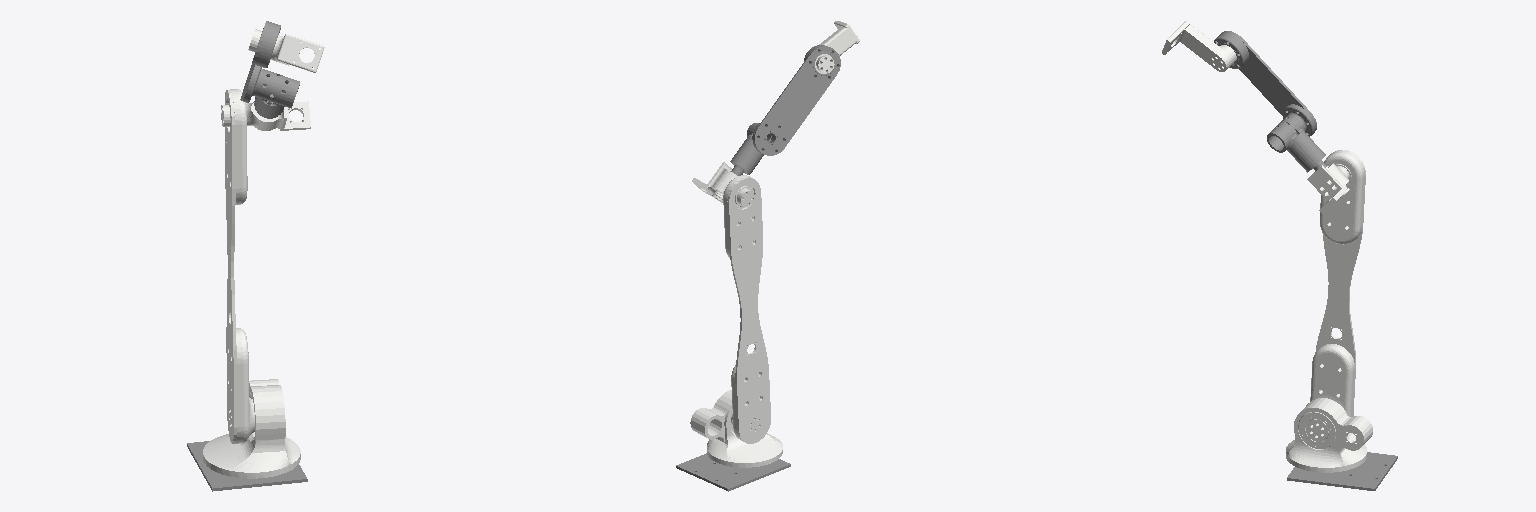
robot.urdf — manipulator:
<?xml version="1.0"?>
<!-- This URDF was automatically created by SolidWorks to URDF Exporter! Originally created by [author] ([email redacted]) 
     Commit Version: 1.6.0-4-g7f85cfe  Build Version: 1.6.7995.38578
     For more information, please see http://wiki.ros.org/sw_urdf_exporter -->
<robot
  name="manipulator">
  <!-- <link name="robot_footprint"></link>
  <joint name="robot_footprint_joint" type="fixed">
		<origin xyz="0 0 0" rpy="0 0 0" />
		<parent link="robot_footprint"/>
		<child link="base_link" />
	</joint> -->
  <link
    name="base_link">
    <inertial>
      <origin
        xyz="0.00908164115042133 0.00249999999999991 -0.0305049626836885"
        rpy="0 0 0" />
      <mass
        value="0.11980315324475" />
      <inertia
        ixx="0.000288625897602559"
        ixy="-1.09695631019673E-20"
        ixz="1.5465282435664E-05"
        iyy="0.000529409365034584"
        iyz="-5.8120920424534E-20"
        izz="0.000241282647237211" />
    </inertial>
    <visual>
      <origin
        xyz="0 0 0"
        rpy="0 0 0" />
      <geometry>
        <mesh
          filename="package://kai/meshes/base_link.dae" />
        <!-- <mesh filename="file://$(robot_description)/meshes/base_link.STL"/> -->
      </geometry>
      <material
        name="">
        <color
          rgba="0.627450980392157 0.627450980392157 0.627450980392157 1" />
      </material>
    </visual>
    <collision>
      <origin
        xyz="0 0 0"
        rpy="0 0 0" />
      <geometry>
        <mesh
          filename="package://kai/meshes/base_link.dae" />
      </geometry>
    </collision>
  </link>
  <link
    name="BaseLink">
    <inertial>
      <origin
        xyz="0.0130098149098752 0.00637352183697149 0.0351023055155284"
        rpy="0 0 0" />
      <mass
        value="0.635450901016514" />
      <inertia
        ixx="0.00146658281605414"
        ixy="-8.00533562972478E-05"
        ixz="-0.000156151329007892"
        iyy="0.00107522273325424"
        iyz="-0.000157052488147922"
        izz="0.00140462825604696" />
    </inertial>
    <visual>
      <origin
        xyz="0 0 0"
        rpy="0 0 0" />
      <geometry>
        <mesh
          filename="package://kai/meshes/BaseLink.STL" />
      </geometry>
      <material
        name="">
        <color
          rgba="0.964705882352941 0.964705882352941 0.952941176470588 1" />
      </material>
    </visual>
    <collision>
      <origin
        xyz="0 0 0"
        rpy="0 0 0" />
      <geometry>
        <mesh
          filename="package://kai/meshes/BaseLink.STL" />
      </geometry>
    </collision>
  </link>
  <joint
    name="Base"
    type="revolute">
    <origin
      xyz="0 0 0.024"
      rpy="0 0 -0.38581" />
    <parent
      link="base_link" />
    <child
      link="BaseLink" />
    <axis
      xyz="0 0 -1" />
    <limit
      lower="-3.14"
      upper="+3.14"
      effort="0"
      velocity="0" />
  </joint>
  <link
    name="Link1">
    <inertial>
      <origin
        xyz="-0.0171899024918185 3.96098050019222E-09 0.211814397998685"
        rpy="0 0 0" />
      <mass
        value="0.75439962581054" />
      <inertia
        ixx="0.00666589929249409"
        ixy="-5.52900390402011E-13"
        ixz="0.000118152905304154"
        iyy="0.00645035702489968"
        iyz="-1.45236654683188E-10"
        izz="0.000447411993441979" />
    </inertial>
    <visual>
      <origin
        xyz="0 0 0"
        rpy="0 0 0" />
      <geometry>
        <mesh
          filename="package://kai/meshes/Link1.STL" />
      </geometry>
      <material
        name="">
        <color
          rgba="0.964705882352941 0.964705882352941 0.952941176470588 1" />
      </material>
    </visual>
    <collision>
      <origin
        xyz="0 0 0"
        rpy="0 0 0" />
      <geometry>
        <mesh
          filename="package://kai/meshes/Link1.STL" />
      </geometry>
    </collision>
  </link>
  <joint
    name="Link_1_joint"
    type="revolute">
    <origin
      xyz="0 0 0.07"
      rpy="-0.049937 0 0" />
    <parent
      link="BaseLink" />
    <child
      link="Link1" />
    <axis
      xyz="-1 0 0" />
    <limit
      lower="-1.65"
      upper="+0.40"
      effort="0"
      velocity="0" />
  </joint>
  <link
    name="LInk2">
    <inertial>
      <origin
        xyz="-1.15541102019279E-07 0.0622210280253098 0.000780641167662521"
        rpy="0 0 0" />
      <mass
        value="0.132683268511766" />
      <inertia
        ixx="0.000149499984756005"
        ixy="9.02670425663714E-10"
        ixz="1.59136095041767E-10"
        iyy="4.34056705353541E-05"
        iyz="1.00196036779716E-05"
        izz="0.000141229747624599" />
    </inertial>
    <visual>
      <origin
        xyz="0 0 0"
        rpy="0 0 0" />
      <geometry>
        <mesh
          filename="package://kai/meshes/LInk2.STL" />
      </geometry>
      <material
        name="">
        <color
          rgba="0.964705882352941 0.964705882352941 0.952941176470588 1" />
      </material>
    </visual>
    <collision>
      <origin
        xyz="0 0 0"
        rpy="0 0 0" />
      <geometry>
        <mesh
          filename="package://kai/meshes/LInk2.STL" />
      </geometry>
    </collision>
  </link>
  <joint
    name="Link_2_joint"
    type="revolute">
    <origin
      xyz="-0.041876 0 0.5"
      rpy="0 0.86992 -1.5708" />
    <parent
      link="Link1" />
    <child
      link="LInk2" />
    <axis
      xyz="0 -1 0" /> 
      <!-- changes in x -->
    <limit
      lower="-2.00"
      upper="+3.78"
      effort="0"
      velocity="0" />
  </joint>
  <link
    name="LInk2_roll">
    <inertial>
      <origin
        xyz="0.160931421999159 0.00967850395069597 0.0167637528504534"
        rpy="0 0 0" />
      <mass
        value="0.265567495853836" />
      <inertia
        ixx="0.000132124255543682"
        ixy="-1.09508918218255E-05"
        ixz="-1.89684816624954E-05"
        iyy="0.000471604742846838"
        iyz="1.03577523752584E-05"
        izz="0.000483564319253852" />
    </inertial>
    <visual>
      <origin
        xyz="0 0 0"
        rpy="0 0 0" />
      <geometry>
        <mesh
          filename="package://kai/meshes/LInk2_roll.STL" />
      </geometry>
      <material
        name="">
        <color
          rgba="0.627450980392157 0.627450980392157 0.627450980392157 1" />
      </material>
    </visual>
    <collision>
      <origin
        xyz="0 0 0"
        rpy="0 0 0" />
      <geometry>
        <mesh
          filename="package://kai/meshes/LInk2_roll.STL" />
      </geometry>
    </collision>
  </link>
  <joint
    name="Link_2_roll_joint"
    type="revolute">
    <origin
      xyz="0 0.068 0"
      rpy="1.6895 -1.5708 0" />
    <parent
      link="LInk2" />
    <child
      link="LInk2_roll" />
    <axis
      xyz="-1 0 0" />
    <limit
      lower="-3.14"
      upper="+3.14"
      effort="0"
      velocity="0" />
  </joint>
  <link
    name="Link3">
    <inertial>
      <origin
        xyz="-1.11690691251276E-07 -0.00647763349746033 0.0333206221271415"
        rpy="0 0 0" />
      <mass
        value="0.144270851305288" />
      <inertia
        ixx="0.000257274308797651"
        ixy="-2.80207124118818E-11"
        ixz="-1.21019066563576E-10"
        iyy="0.00020954236699102"
        iyz="-7.32674962057258E-05"
        izz="8.42184579446783E-05" />
    </inertial>
    <visual>
      <origin
        xyz="0 0 0"
        rpy="0 0 0" />
      <geometry>
        <mesh
          filename="package://kai/meshes/Link3.STL" />
      </geometry>
      <material
        name="">
        <color
          rgba="0.964705882352941 0.964705882352941 0.952941176470588 1" />
      </material>
    </visual>
    <collision>
      <origin
        xyz="0 0 0"
        rpy="0 0 0" />
      <geometry>
        <mesh
          filename="package://kai/meshes/Link3.STL" />
      </geometry>
    </collision>
  </link>
  <joint
    name="Link_3_joint"
    type="revolute">
    <origin
      xyz="0.30505 0 0"
      rpy="-1.4084 -0.50003 -1.9" />
    <parent
      link="LInk2_roll" />
    <child
      link="Link3" />
    <axis
      xyz="0 -1 0" />
    <limit
      lower="-3.14"
      upper="+3.14"
      effort="0"
      velocity="0" />
  </joint>
</robot>

--- Facts derived from the render (not from the file) ---
The picture shows the robot from 3 angles, left to right: view 1: azimuth 30°, elevation 25°; view 2: azimuth 150°, elevation 25°; view 3: azimuth 270°, elevation 25°; orthographic projection.
Robot: manipulator — 6 links, 5 joints (5 revolute); root link base_link; default pose: all joints at 0.
Links seen in each view (by area): view 1: Link1, BaseLink, LInk2_roll, base_link, Link3, LInk2; view 2: Link1, LInk2_roll, BaseLink, base_link, Link3, LInk2; view 3: Link1, LInk2_roll, BaseLink, base_link, Link3, LInk2.
Link boxes in pixels (box(x1,y1,x2,y2)): Link1: box(225, 89, 254, 443); BaseLink: box(203, 379, 300, 478); LInk2_roll: box(240, 21, 299, 118); base_link: box(187, 441, 307, 491); Link3: box(248, 29, 324, 72); LInk2: box(221, 101, 310, 130); Link1: box(723, 175, 770, 443); LInk2_roll: box(730, 45, 840, 175); BaseLink: box(690, 390, 782, 467); base_link: box(676, 453, 790, 491); Link3: box(815, 21, 859, 73); LInk2: box(692, 162, 754, 206); Link1: box(1306, 150, 1365, 441); LInk2_roll: box(1214, 31, 1326, 172); BaseLink: box(1286, 398, 1372, 472); base_link: box(1287, 452, 1397, 490); Link3: box(1162, 21, 1236, 71); LInk2: box(1307, 163, 1349, 213).
Bounding box of the posed robot: 0.218 × 0.434 × 0.865 m (x, y, z).
Meshes: 6 distinct files referenced, 6 mesh visuals loaded (5 binary STL, 1 Collada DAE).
